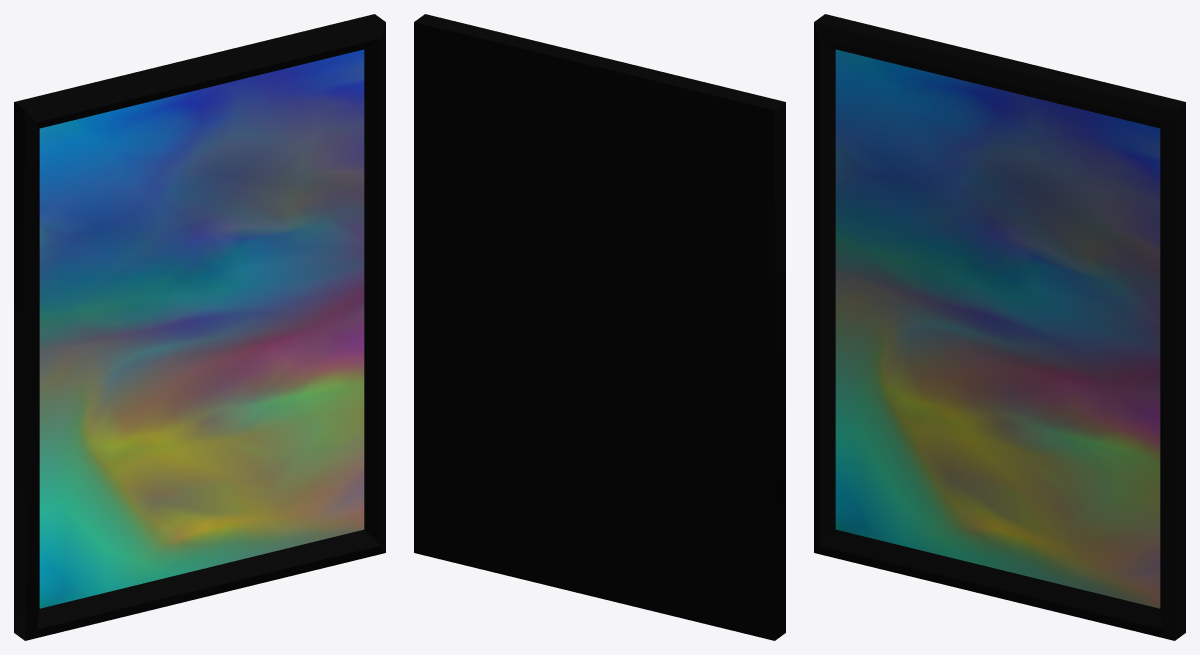
Rendered from Painting_01.obj.
3 renders of one model, left to right at view 1: azimuth 30°, elevation 25°; view 2: azimuth 150°, elevation 25°; view 3: azimuth 330°, elevation 25°, orthographic.
Parts seen in each view (by area): view 1: Painting_01; view 2: Painting_01; view 3: Painting_01.
Part boxes in pixels (<box>): Painting_01: <box>14,14,385,640</box>; Painting_01: <box>414,14,785,640</box>; Painting_01: <box>814,14,1185,640</box>.
Bounding box in the file's own units: 0.7114 × 1 × 0.0494.
